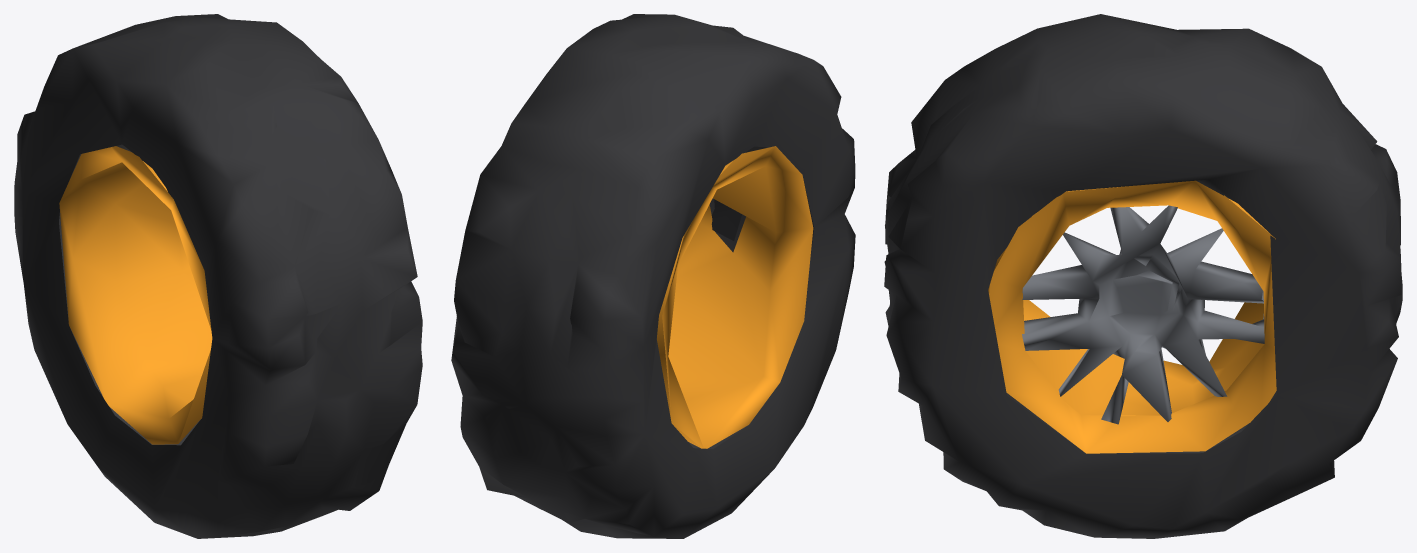
File: volt_wheel_lo.glb
3 views of the same model, side by side, from view 1: azimuth 30°, elevation 25°; view 2: azimuth 150°, elevation 25°; view 3: azimuth 270°, elevation 25° (orthographic).
Parts seen in each view (by area): view 1: wheel; view 2: wheel; view 3: wheel.
Part boxes in pixels (<box>): wheel: <box>14,14,422,538</box>; wheel: <box>451,14,855,538</box>; wheel: <box>884,14,1402,538</box>.
Size of the model in its own units: 0.3246 by 0.7649 by 0.7638.
